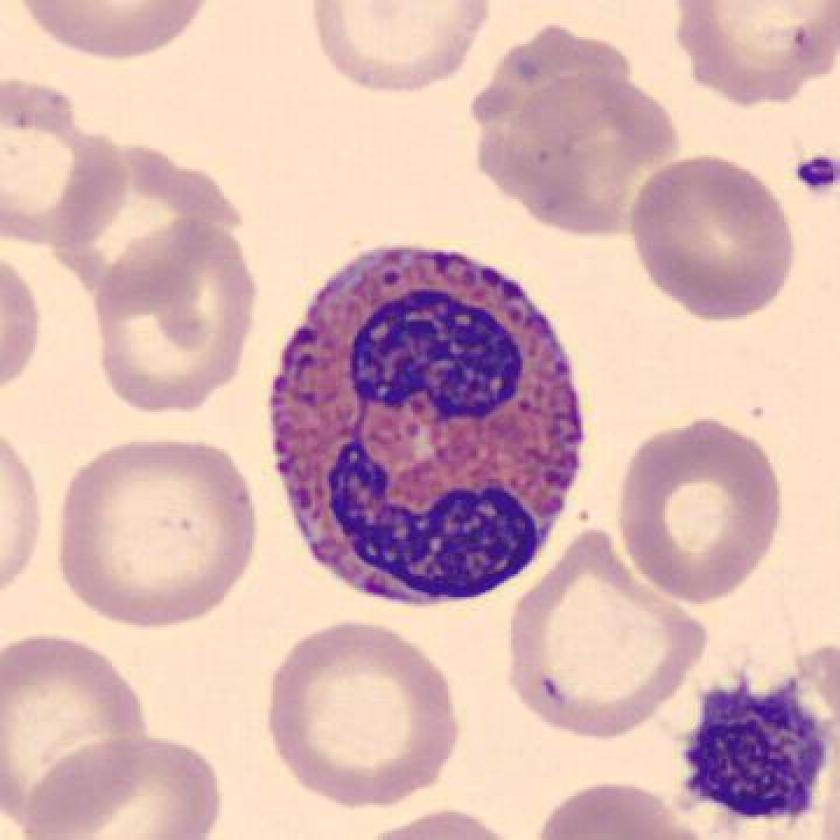eosinophil: (265, 235, 596, 617)
